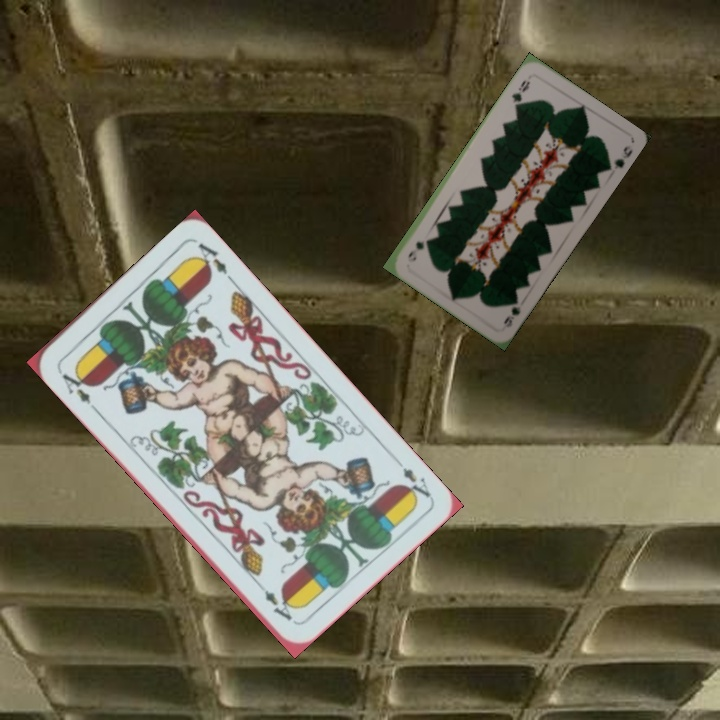EA: (391, 452, 434, 504), (58, 364, 99, 413)
G9: (507, 76, 533, 110), (500, 292, 523, 330)
